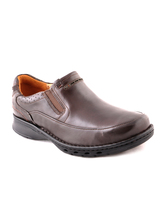shoes: (10, 72, 158, 159)
